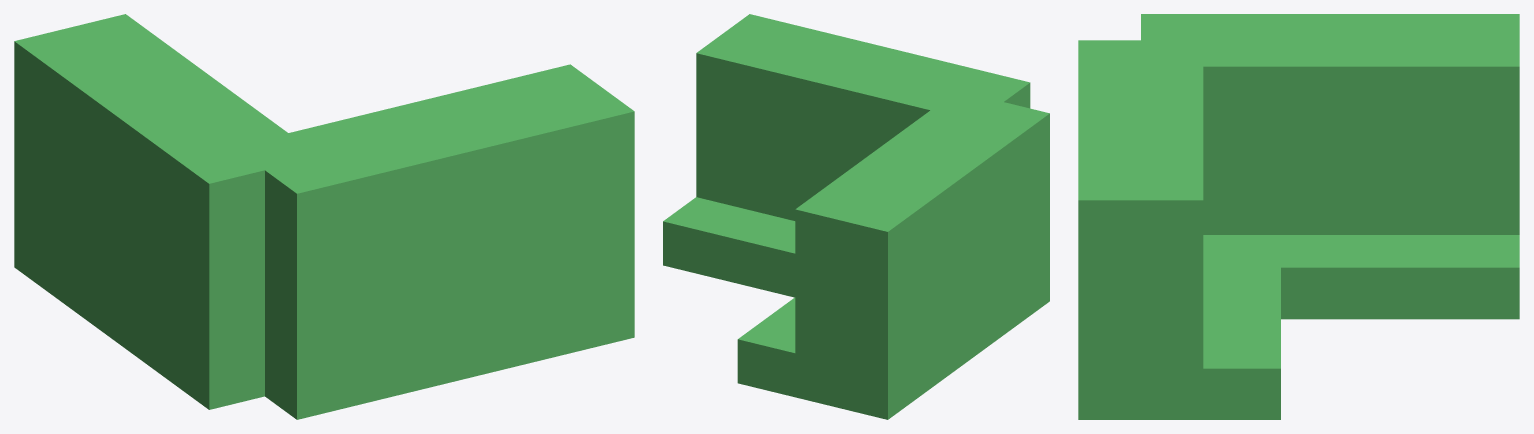
The model's file is parapet_combat_corner_inner_collision.glb.
The picture shows the model from 3 angles, left to right: view 1: azimuth 30°, elevation 25°; view 2: azimuth 150°, elevation 25°; view 3: azimuth 270°, elevation 25°; orthographic projection. The views are drawn at different scales.
Parts seen in each view (by area): view 1: parapet_combat_corner_inner_x_wall-col, parapet_combat_corner_inner_y_wall-col; view 2: parapet_combat_corner_inner_y_wall-col, parapet_combat_corner_inner_x_wall-col, parapet_combat_corner_inner_x_step-col, parapet_combat_corner_inner_y_step-col; view 3: parapet_combat_corner_inner_y_wall-col, parapet_combat_corner_inner_x_wall-col, parapet_combat_corner_inner_y_step-col, parapet_combat_corner_inner_x_step-col.
Boxes of the visible parts, box(x1,y1,x2,y2) form: parapet_combat_corner_inner_x_wall-col: box(233, 64, 634, 419); parapet_combat_corner_inner_y_wall-col: box(14, 14, 316, 409); parapet_combat_corner_inner_y_wall-col: box(795, 102, 1049, 419); parapet_combat_corner_inner_x_wall-col: box(696, 14, 1030, 220); parapet_combat_corner_inner_x_step-col: box(663, 197, 795, 297); parapet_combat_corner_inner_y_step-col: box(737, 297, 804, 399); parapet_combat_corner_inner_y_wall-col: box(1141, 14, 1519, 234); parapet_combat_corner_inner_x_wall-col: box(1078, 40, 1203, 419); parapet_combat_corner_inner_y_step-col: box(1203, 235, 1519, 319); parapet_combat_corner_inner_x_step-col: box(1190, 235, 1280, 419).
Size of the model in its own units: 2.33 by 1.28 by 2.33.
